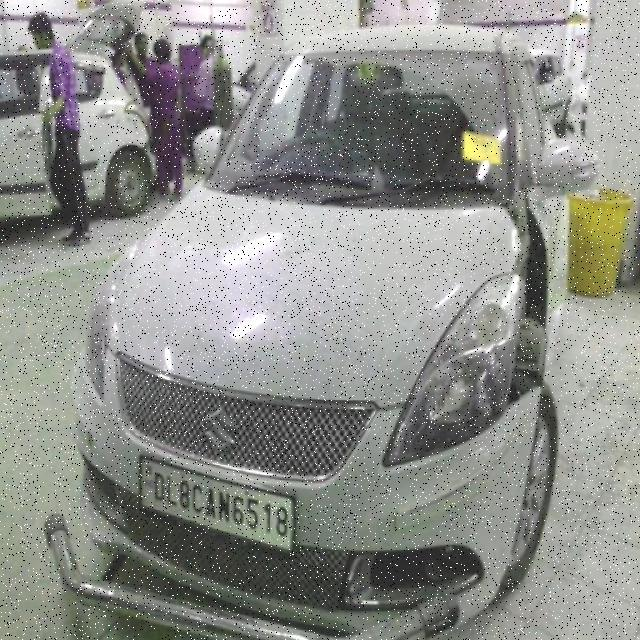car damage: (510, 197, 550, 401)
